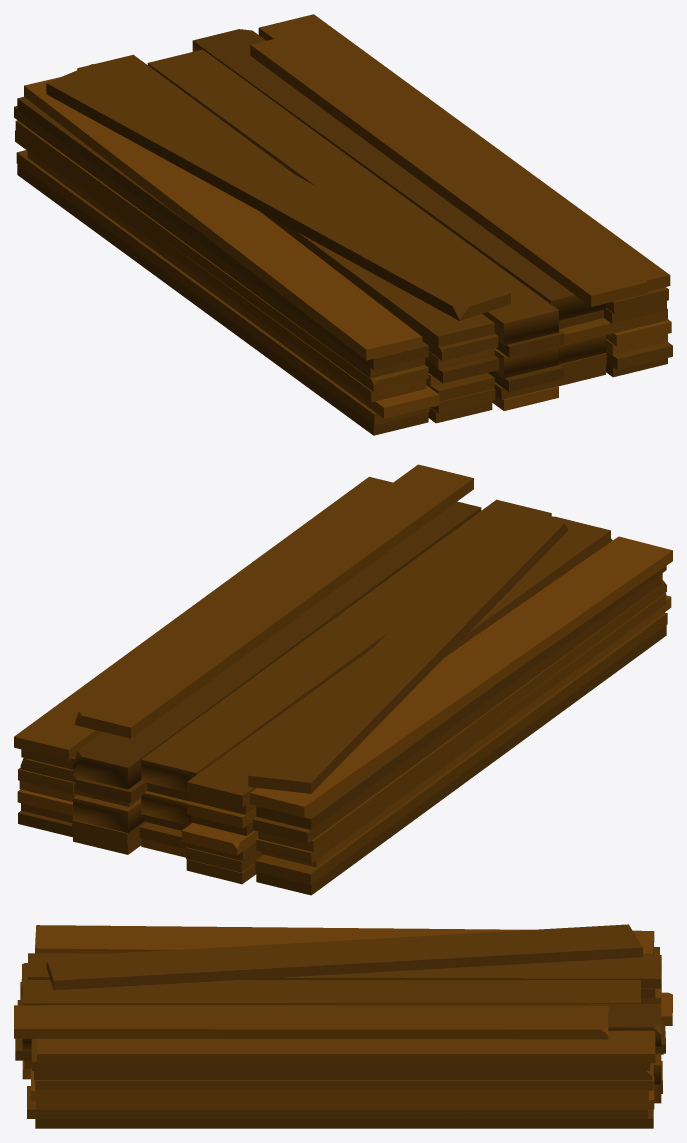
File: Planks_1.fbx
The picture shows the model from 3 angles, top to bottom: view 1: azimuth 30°, elevation 25°; view 2: azimuth 150°, elevation 25°; view 3: azimuth 270°, elevation 25°; orthographic projection. The views are drawn at different scales.
Parts seen in each view (by area): view 1: Planks_1; view 2: Planks_1; view 3: Planks_1.
Boxes of the visible parts, <box> form: Planks_1: <box>14,14,672,435</box>; Planks_1: <box>14,464,672,895</box>; Planks_1: <box>14,924,672,1128</box>.
Bounding box in the file's own units: 133 × 41.32 × 288.
